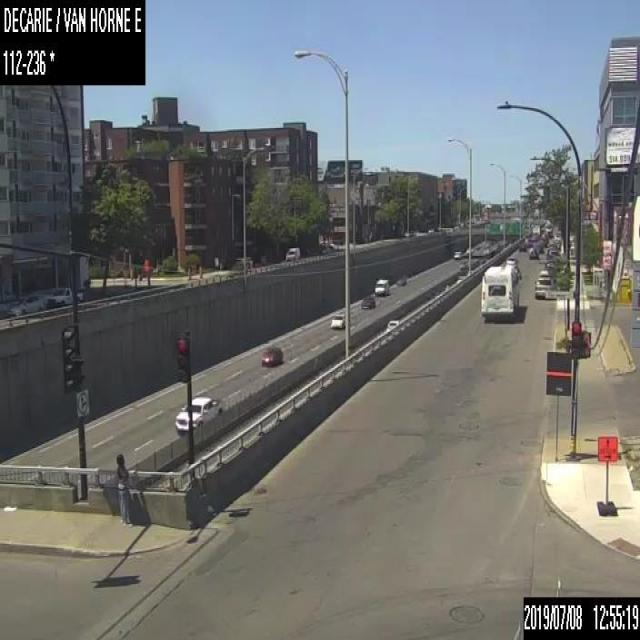bus: (479, 266, 518, 318)
construction: (596, 434, 618, 514), (198, 265, 202, 277), (187, 266, 190, 279)
pedestrian: (114, 452, 131, 525)
vehicle: (175, 396, 220, 432), (46, 285, 84, 305), (10, 294, 45, 314), (534, 270, 552, 297), (261, 345, 283, 366), (329, 312, 345, 329), (374, 278, 388, 296), (285, 245, 300, 260), (385, 318, 399, 331), (361, 295, 374, 309), (544, 254, 556, 268), (528, 244, 537, 259), (505, 256, 517, 267), (396, 274, 406, 283), (548, 248, 559, 256), (518, 242, 526, 251), (453, 251, 461, 259)
